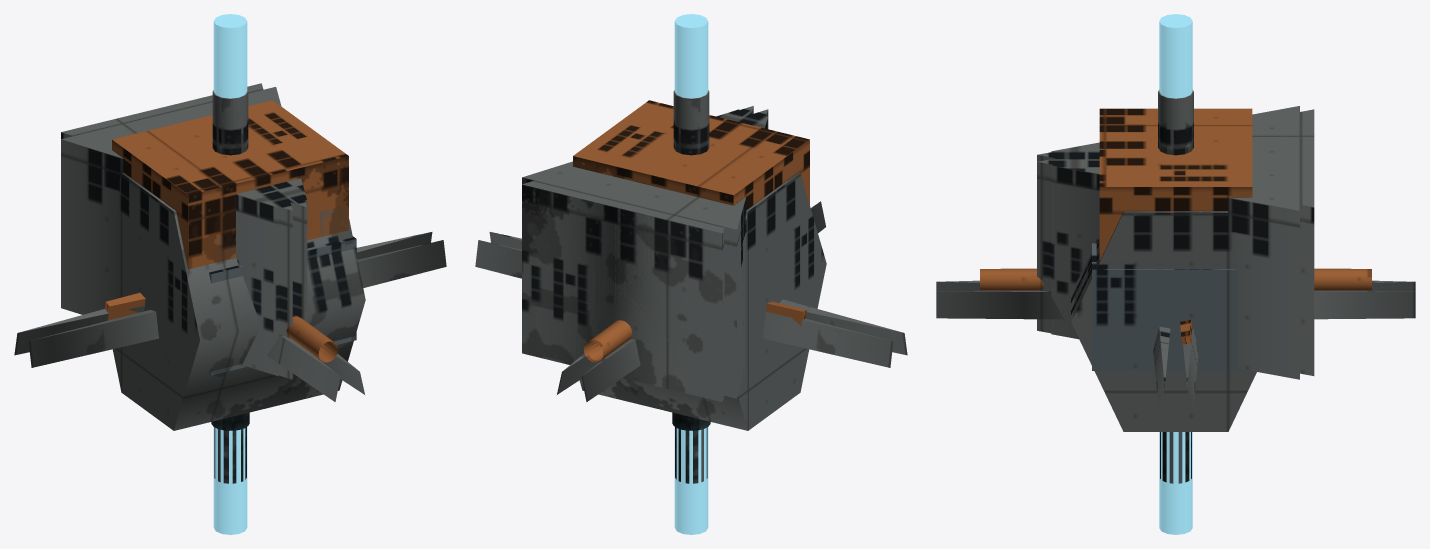
The model's file is drive_main.glb.
3 views of the same model, side by side, from view 1: azimuth 30°, elevation 25°; view 2: azimuth 150°, elevation 25°; view 3: azimuth 270°, elevation 25° (orthographic).
Visible parts, largest first — view 1: merged-646a6c, merged-a56233, merged-a3e9ff, merged-5d6a72; view 2: merged-646a6c, merged-a56233, merged-a3e9ff, merged-5d6a72; view 3: merged-646a6c, merged-a56233, merged-5d6a72, merged-a3e9ff.
Boxes of the visible parts, <box> form: merged-646a6c: <box>14,83,446,430</box>; merged-a56233: <box>104,100,348,362</box>; merged-a3e9ff: <box>213,14,247,534</box>; merged-5d6a72: <box>209,206,356,483</box>; merged-646a6c: <box>475,90,907,430</box>; merged-a56233: <box>573,100,809,362</box>; merged-a3e9ff: <box>674,14,708,534</box>; merged-5d6a72: <box>675,427,707,483</box>; merged-646a6c: <box>936,90,1415,431</box>; merged-a56233: <box>980,108,1371,344</box>; merged-5d6a72: <box>1092,243,1250,483</box>; merged-a3e9ff: <box>1159,14,1192,534</box>.
Bounding box in the file's own units: 33.44 × 39.01 × 33.44.
7 materials, 6 textured.
